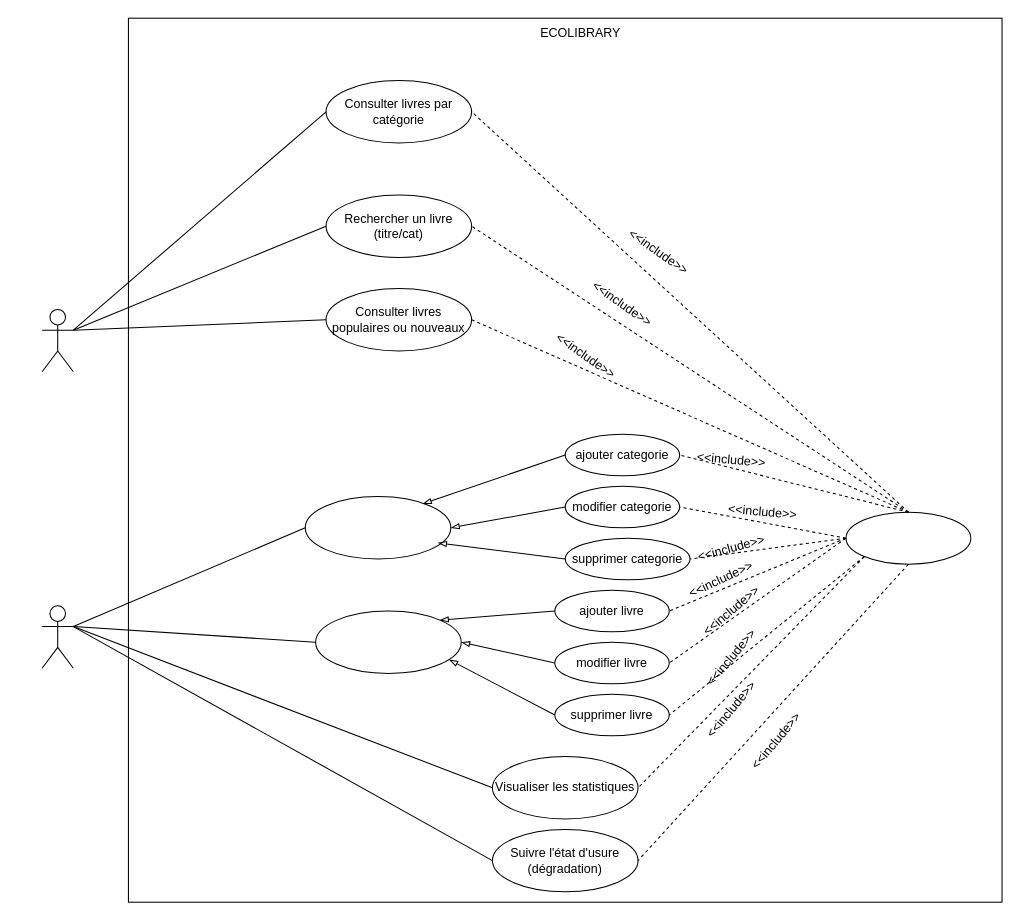
Some shapes in this 1020 by 920 pixel diagram are drawn without their labels. Each missing label, with the box of its shape:
Administrateur: (41, 605, 73, 668)
Gérer les catégories (CRUD): (304, 496, 451, 559)
Gérer les livres (CRUD): (315, 610, 461, 673)
Lecteur: (41, 308, 73, 372)
S'authentifier: (845, 511, 971, 564)
